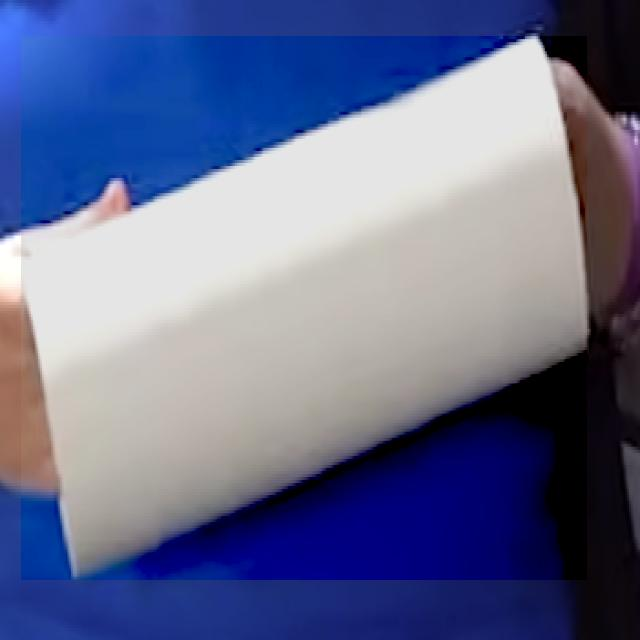Coral: (21, 37, 587, 580)
